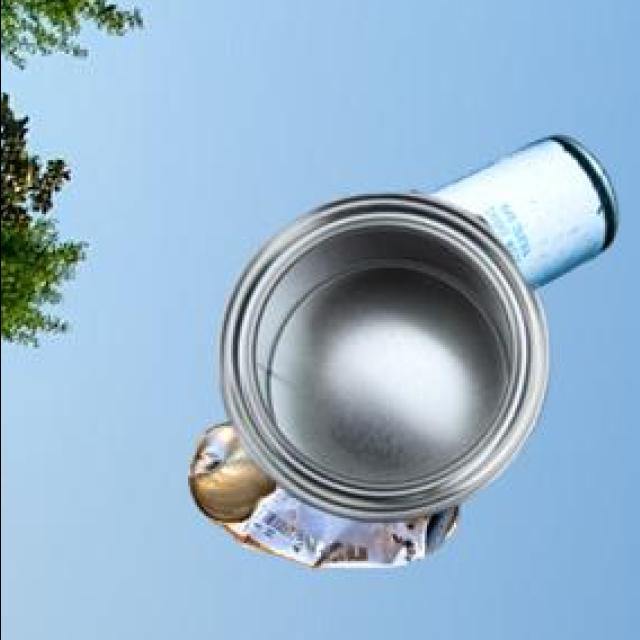logam: (220, 195, 551, 524), (193, 427, 461, 571), (429, 141, 621, 292)
